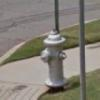a fire hydrant: (42, 29, 68, 88)
